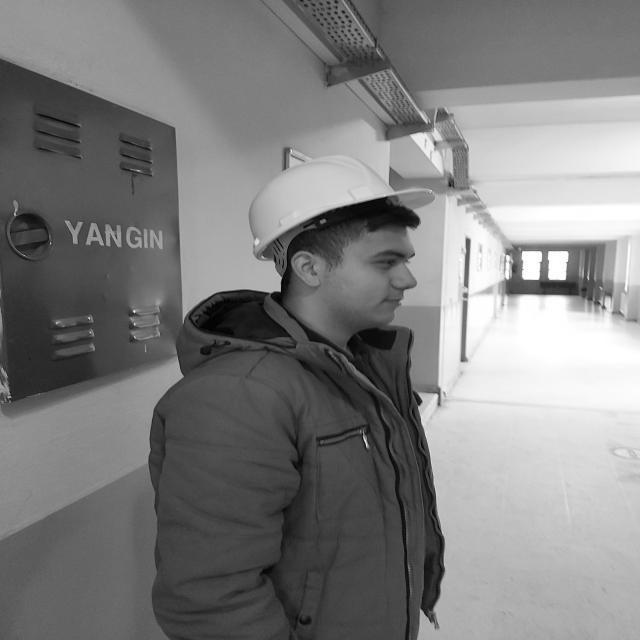safety_helmet: (251, 157, 435, 279)
